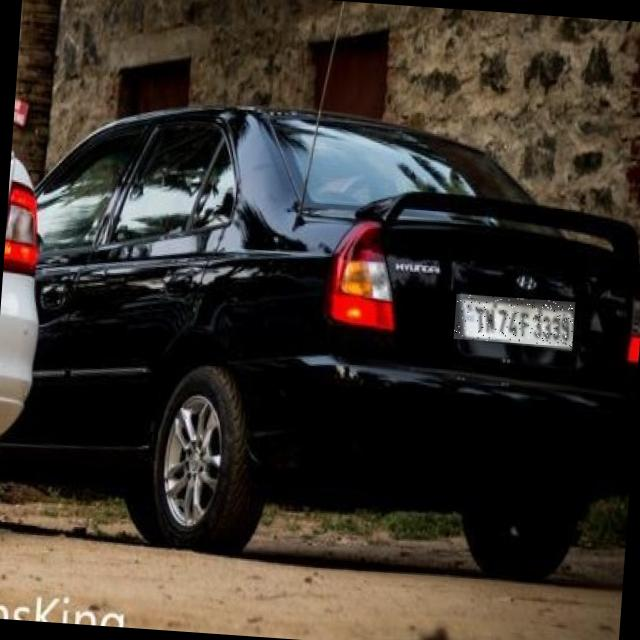Plate: (454, 295, 576, 348)
